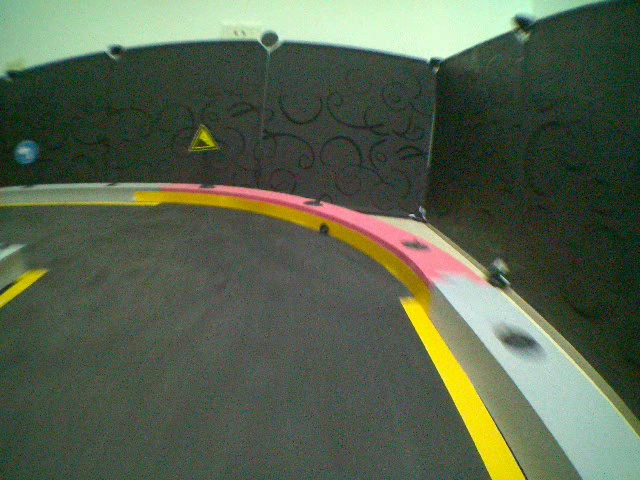fast: (188, 122, 219, 151)
